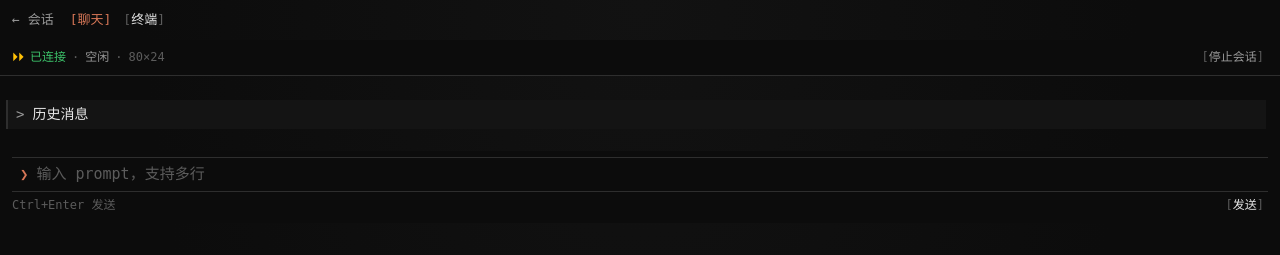
Test case: SessionView › stops the session through the API after the second tap and tells the user
Click the button with test id "stop": (1233, 57) top-left (1198, 46), bottom-right (1268, 69)
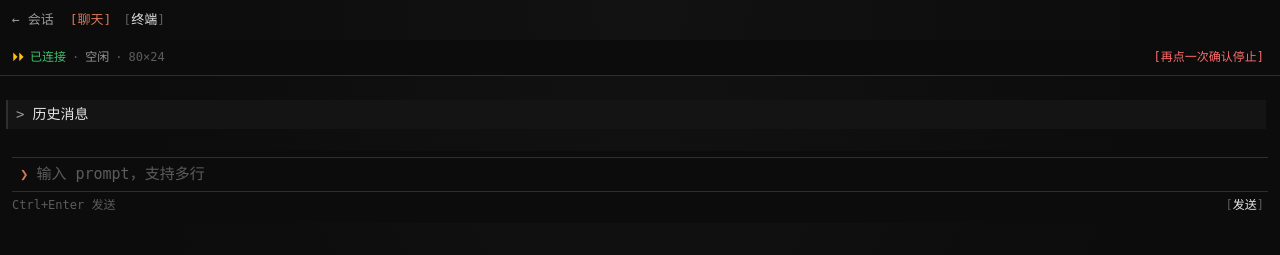
Click the button with test id "stop": (1209, 57) top-left (1150, 46), bottom-right (1268, 69)
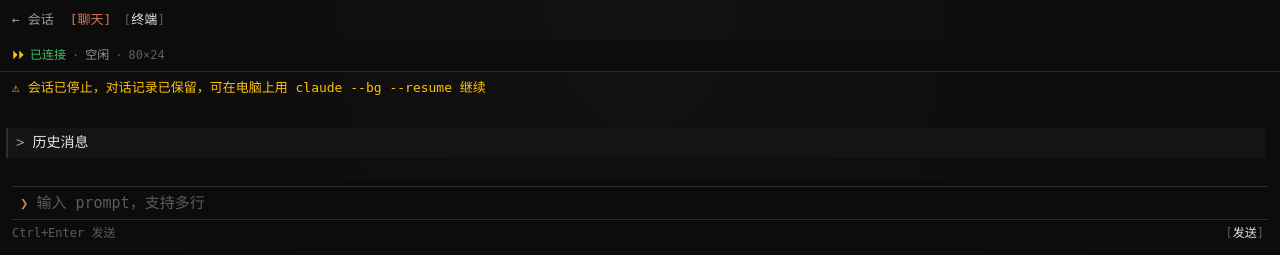
Check: the text "会话已停止" is shown, box top-left (12, 80), bottom-right (486, 95)
